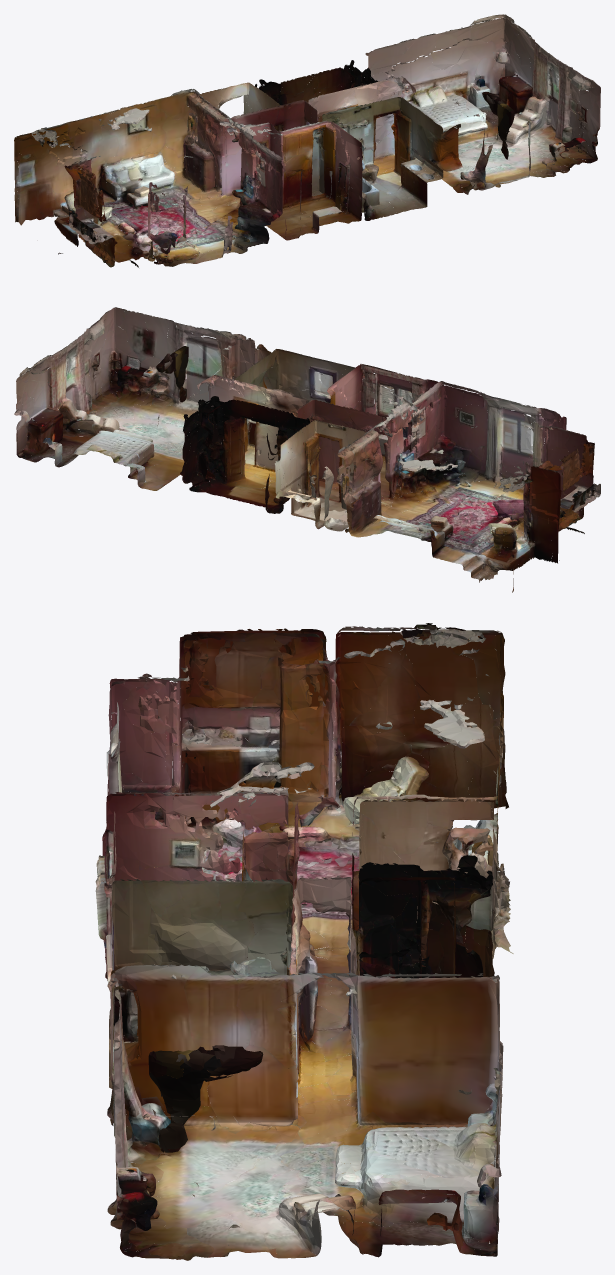
File: esc_alta_muros_08.glb
3 views of the same model, one above another, from view 1: azimuth 30°, elevation 25°; view 2: azimuth 150°, elevation 25°; view 3: azimuth 270°, elevation 25° (orthographic). The views are drawn at different scales.
Parts seen in each view (by area): view 1: muros_Apartamento_y_bodega_8_GLTF_8, muros_Apartamento_y_bodega_8_GLTF_9, muros_Apartamento_y_bodega_8_GLTF_11, muros_Apartamento_y_bodega_8_GLTF_10, muros_Apartamento_y_bodega_8_GLTF_4, muros_Apartamento_y_bodega_8_GLTF_5, muros_Apartamento_y_bodega_8_GLTF_6, muros_Apartamento_y_bodega_8_GLTF_3, muros_Apartamento_y_bodega_8_GLTF_2, muros_Apartamento_y_bodega_8_GLTF_7, muros_Apartamento_y_bodega_8_GLTF, muros_Apartamento_y_bodega_8_GLTF_1; view 2: muros_Apartamento_y_bodega_8_GLTF_11, muros_Apartamento_y_bodega_8_GLTF_2, muros_Apartamento_y_bodega_8_GLTF_9, muros_Apartamento_y_bodega_8_GLTF_8, muros_Apartamento_y_bodega_8_GLTF_10, muros_Apartamento_y_bodega_8_GLTF_4, muros_Apartamento_y_bodega_8_GLTF, muros_Apartamento_y_bodega_8_GLTF_5, muros_Apartamento_y_bodega_8_GLTF_6, muros_Apartamento_y_bodega_8_GLTF_1, muros_Apartamento_y_bodega_8_GLTF_7, muros_Apartamento_y_bodega_8_GLTF_3; view 3: muros_Apartamento_y_bodega_8_GLTF_4, muros_Apartamento_y_bodega_8_GLTF_9, muros_Apartamento_y_bodega_8_GLTF_8, muros_Apartamento_y_bodega_8_GLTF_10, muros_Apartamento_y_bodega_8_GLTF_7, muros_Apartamento_y_bodega_8_GLTF_11, muros_Apartamento_y_bodega_8_GLTF_5, muros_Apartamento_y_bodega_8_GLTF_6, muros_Apartamento_y_bodega_8_GLTF_3, muros_Apartamento_y_bodega_8_GLTF_1, muros_Apartamento_y_bodega_8_GLTF, muros_Apartamento_y_bodega_8_GLTF_2.
Part boxes in pixels (x1,y1,x2,y2): muros_Apartamento_y_bodega_8_GLTF_8: (31, 34, 596, 261); muros_Apartamento_y_bodega_8_GLTF_9: (20, 28, 584, 266); muros_Apartamento_y_bodega_8_GLTF_11: (15, 19, 595, 266); muros_Apartamento_y_bodega_8_GLTF_10: (14, 29, 589, 267); muros_Apartamento_y_bodega_8_GLTF_4: (55, 41, 564, 253); muros_Apartamento_y_bodega_8_GLTF_5: (14, 58, 600, 258); muros_Apartamento_y_bodega_8_GLTF_6: (15, 14, 597, 264); muros_Apartamento_y_bodega_8_GLTF_3: (14, 23, 577, 262); muros_Apartamento_y_bodega_8_GLTF_2: (18, 80, 600, 267); muros_Apartamento_y_bodega_8_GLTF_7: (14, 52, 598, 263); muros_Apartamento_y_bodega_8_GLTF: (41, 60, 529, 265); muros_Apartamento_y_bodega_8_GLTF_1: (37, 53, 555, 242); muros_Apartamento_y_bodega_8_GLTF_11: (21, 311, 597, 592); muros_Apartamento_y_bodega_8_GLTF_2: (68, 314, 582, 555); muros_Apartamento_y_bodega_8_GLTF_9: (14, 309, 591, 579); muros_Apartamento_y_bodega_8_GLTF_8: (16, 318, 594, 570); muros_Apartamento_y_bodega_8_GLTF_10: (16, 338, 599, 574); muros_Apartamento_y_bodega_8_GLTF_4: (37, 327, 582, 579); muros_Apartamento_y_bodega_8_GLTF: (64, 346, 600, 532); muros_Apartamento_y_bodega_8_GLTF_5: (66, 307, 584, 555); muros_Apartamento_y_bodega_8_GLTF_6: (16, 362, 594, 561); muros_Apartamento_y_bodega_8_GLTF_1: (76, 350, 594, 582); muros_Apartamento_y_bodega_8_GLTF_7: (22, 323, 566, 561); muros_Apartamento_y_bodega_8_GLTF_3: (14, 344, 600, 570); muros_Apartamento_y_bodega_8_GLTF_4: (108, 648, 506, 1212); muros_Apartamento_y_bodega_8_GLTF_9: (107, 627, 502, 1251); muros_Apartamento_y_bodega_8_GLTF_8: (98, 629, 502, 1257); muros_Apartamento_y_bodega_8_GLTF_10: (106, 641, 508, 1260); muros_Apartamento_y_bodega_8_GLTF_7: (104, 633, 506, 1226); muros_Apartamento_y_bodega_8_GLTF_11: (95, 625, 513, 1255); muros_Apartamento_y_bodega_8_GLTF_5: (95, 654, 505, 1258); muros_Apartamento_y_bodega_8_GLTF_6: (108, 632, 504, 1258); muros_Apartamento_y_bodega_8_GLTF_3: (106, 628, 506, 1246); muros_Apartamento_y_bodega_8_GLTF_1: (102, 623, 503, 1152); muros_Apartamento_y_bodega_8_GLTF: (106, 624, 510, 1233); muros_Apartamento_y_bodega_8_GLTF_2: (108, 653, 502, 1230).
Size of the model in its own units: 17.62 by 3.48 by 6.55.
Materials: 12 (12 with a texture image).
